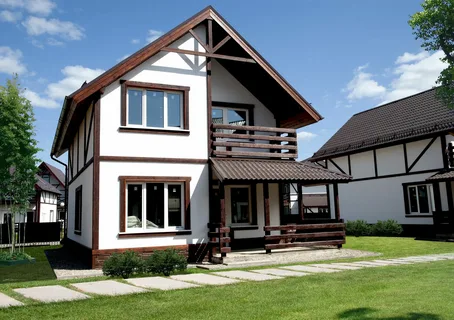private_hause: (61, 25, 315, 247)
